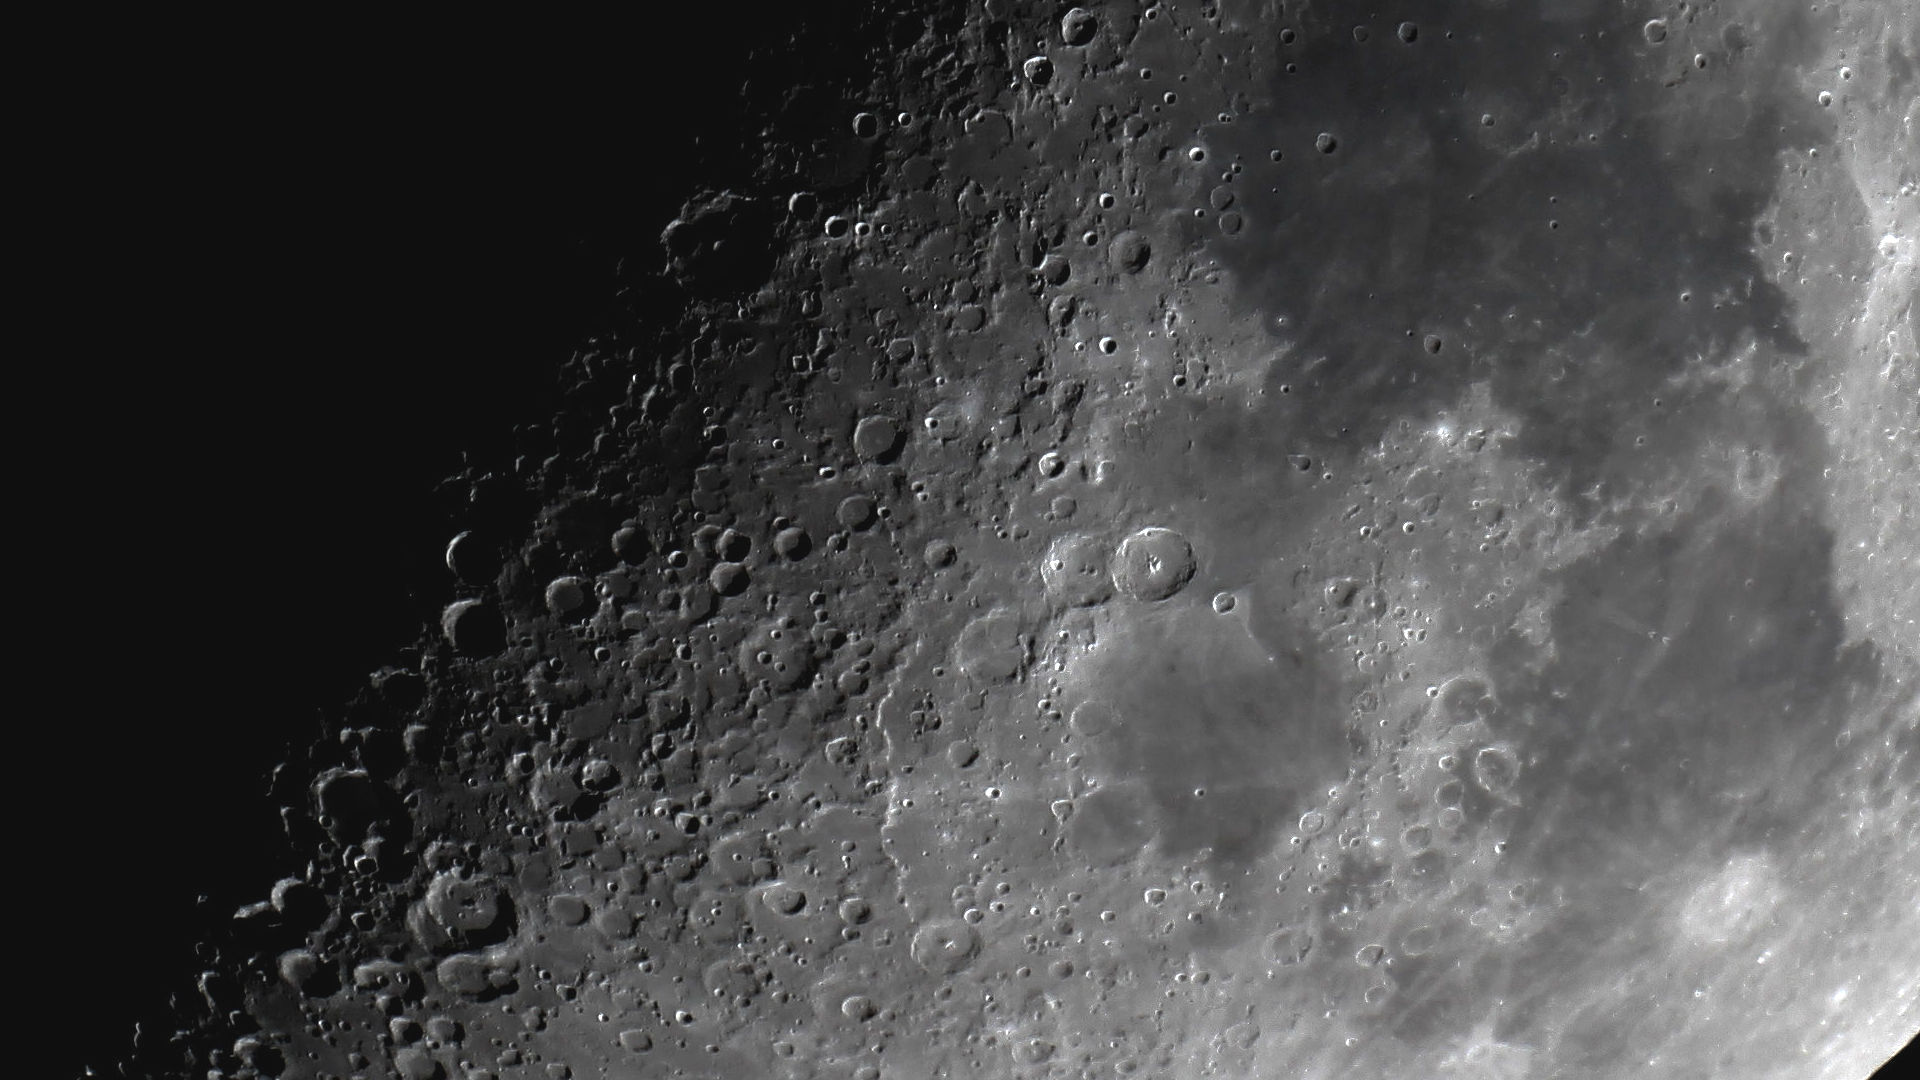crater: (632, 164, 791, 338), (402, 862, 542, 971), (1102, 514, 1196, 626), (899, 913, 1002, 996), (1427, 662, 1516, 737), (1298, 107, 1367, 189), (1411, 298, 1460, 384), (1614, 5, 1677, 67), (1205, 571, 1255, 644), (825, 984, 886, 1033)
